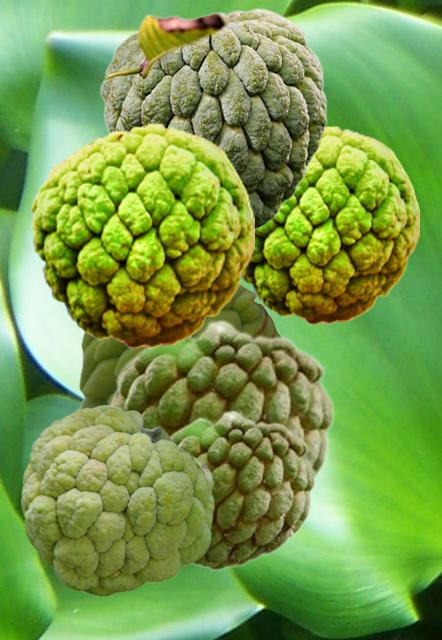atis: (99, 7, 326, 230), (30, 122, 253, 348), (105, 318, 334, 480), (21, 405, 213, 595), (241, 125, 418, 324), (78, 284, 281, 407), (169, 409, 315, 570)
